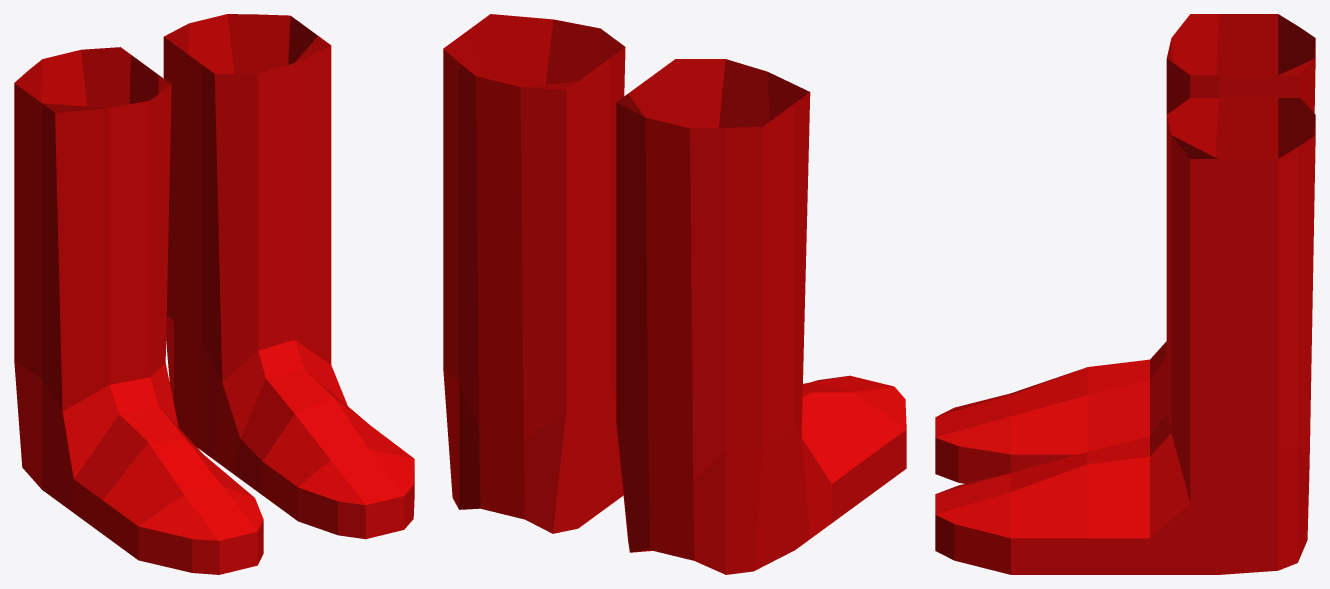
Rendered from boots.fbx.
3 renders of one model, left to right at view 1: azimuth 30°, elevation 25°; view 2: azimuth 150°, elevation 25°; view 3: azimuth 270°, elevation 25°, orthographic. The views are drawn at different scales.
Parts seen in each view (by area): view 1: polySurface1; view 2: polySurface1; view 3: polySurface1.
Part boxes in pixels (x1,y1,x2,y2): polySurface1: (14, 14, 414, 574); polySurface1: (443, 14, 906, 574); polySurface1: (935, 14, 1315, 574).
Size of the model in its own units: 8.51 by 11.37 by 9.42.
